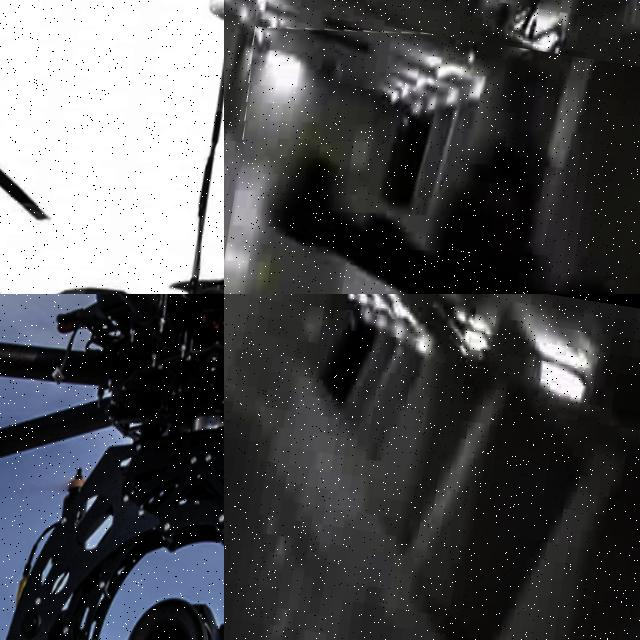drone: (224, 7, 640, 294), (0, 294, 224, 640), (0, 0, 224, 294)
